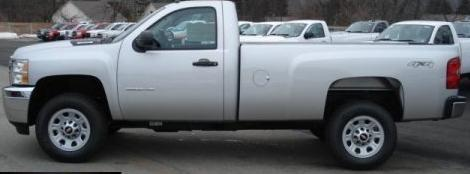backlight: (440, 53, 466, 94)
headlight: (4, 56, 31, 92)
side_glass: (127, 7, 223, 57)
